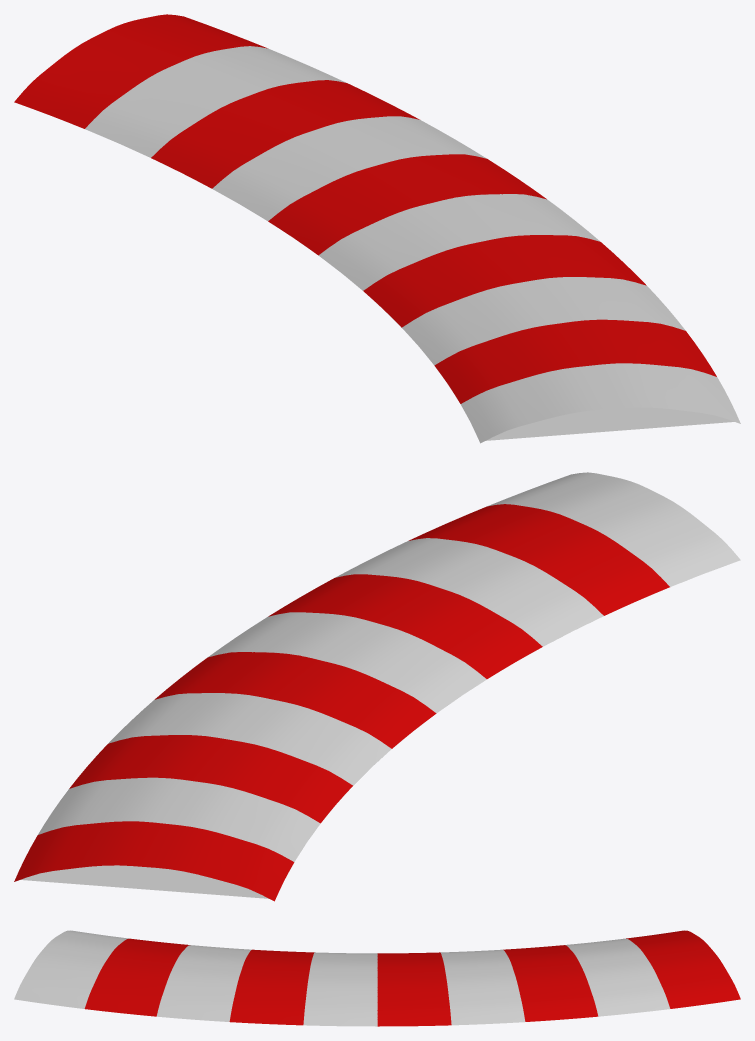
The model's file is left_curb_small.dae.
3 renders of one model, top to bottom at view 1: azimuth 30°, elevation 25°; view 2: azimuth 150°, elevation 25°; view 3: azimuth 270°, elevation 25°, orthographic. The views are drawn at different scales.
Visible parts, largest first — view 1: pPlane1, pPlane4, pPlane2; view 2: pPlane4, pPlane1, pPlane3; view 3: pPlane1, pPlane4.
Boxes of the visible parts, bbox=[...] form: pPlane1: bbox=[318, 194, 740, 443]; pPlane4: bbox=[14, 14, 546, 255]; pPlane2: bbox=[331, 265, 734, 440]; pPlane4: bbox=[14, 652, 436, 901]; pPlane1: bbox=[208, 472, 740, 713]; pPlane3: bbox=[20, 723, 423, 898]; pPlane1: bbox=[14, 930, 377, 1026]; pPlane4: bbox=[377, 930, 740, 1026].
Bounding box in the file's own units: 1.32 × 0.104 × 4.22.
